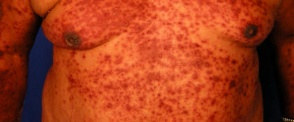SJS-TEN: (41, 0, 282, 122), (0, 0, 38, 121)
